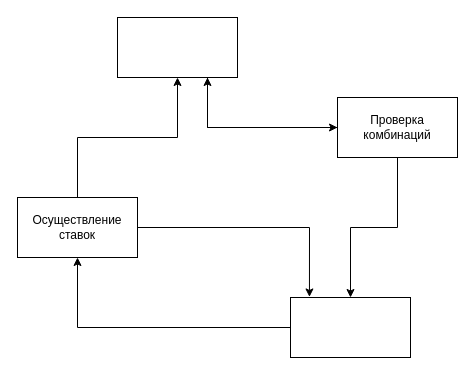
The diagram is 475 pixels wide and 375 high, and some of its shapes have lost their labels. Each missing label, with the centre of its shape:
Перечисление фишек: point (350, 327)
Раздача: point (177, 47)
